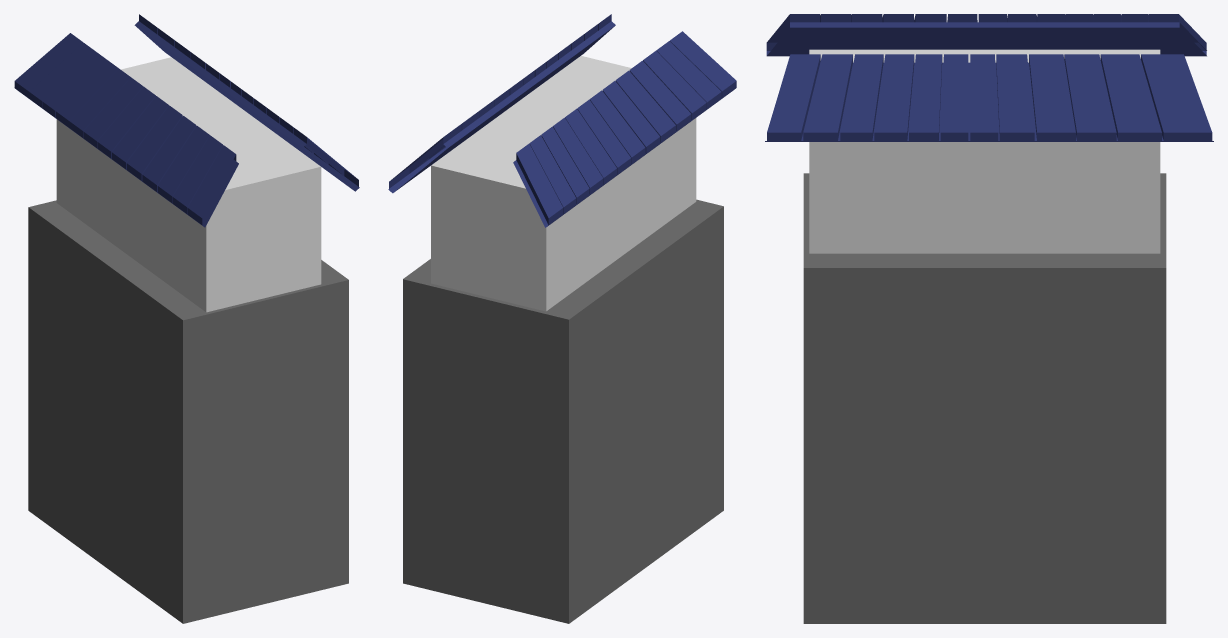
The model's file is mainGateWall.fbx.
3 views of the same model, side by side, from view 1: azimuth 30°, elevation 25°; view 2: azimuth 150°, elevation 25°; view 3: azimuth 270°, elevation 25° (orthographic). The views are drawn at different scales.
Parts seen in each view (by area): view 1: pCube66, pCube67, pCube68; view 2: pCube66, pCube67, pCube68; view 3: pCube66, pCube68, pCube67.
Boxes of the visible parts, <box> form: pCube66: <box>28,200,348,623</box>; pCube67: <box>56,57,321,312</box>; pCube68: <box>14,14,359,227</box>; pCube66: <box>403,199,723,623</box>; pCube67: <box>431,56,696,311</box>; pCube68: <box>388,14,736,227</box>; pCube66: <box>803,173,1166,623</box>; pCube68: <box>765,14,1213,141</box>; pCube67: <box>809,49,1160,253</box>.
Size of the model in its own units: 74.97 by 200 by 150.
